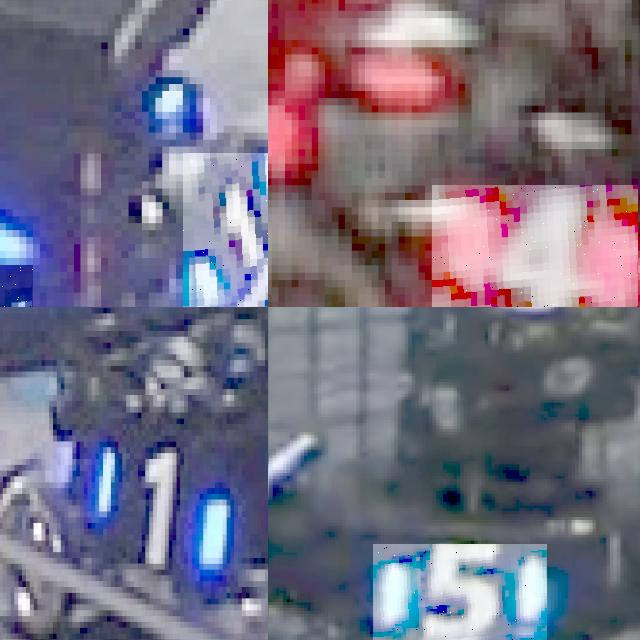B1: (68, 430, 230, 575), (183, 153, 268, 306)
B5: (373, 543, 547, 640)
R4: (431, 185, 638, 307)
